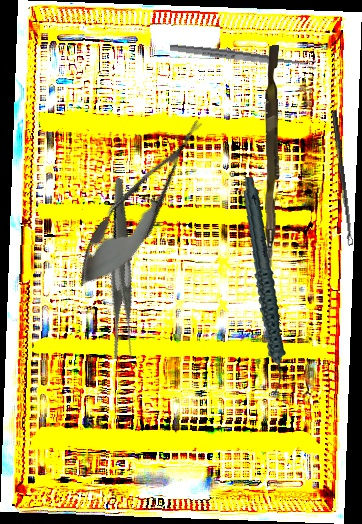Dressing Forceps: (65, 177, 181, 364)
Handpiece: (225, 176, 301, 395)
Micro Scissor: (61, 106, 221, 302)
Pusher: (262, 45, 283, 267)
Surgical Spoon: (169, 42, 317, 71), (330, 110, 354, 246)
